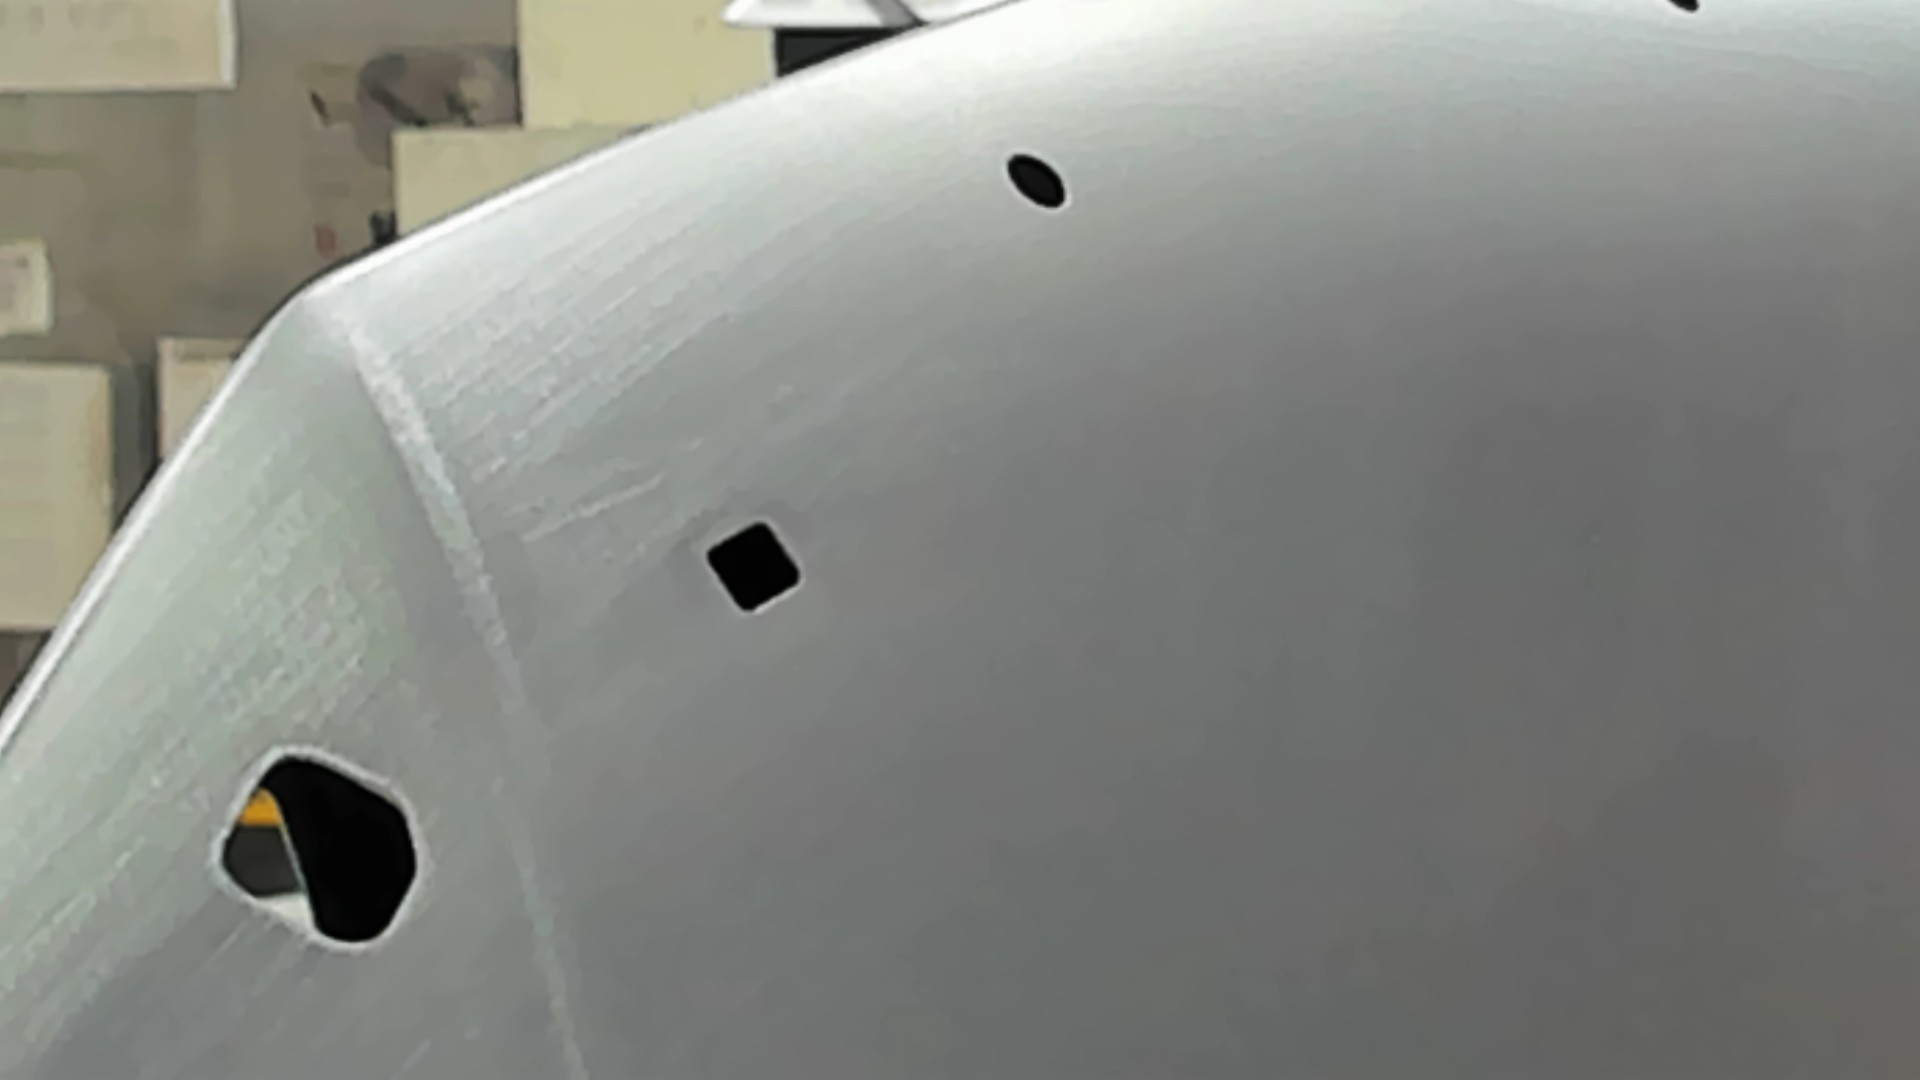chico: (1001, 146, 1069, 211), (1669, 1, 1705, 15)
grande: (204, 740, 433, 957)
mediano: (698, 512, 808, 622)
